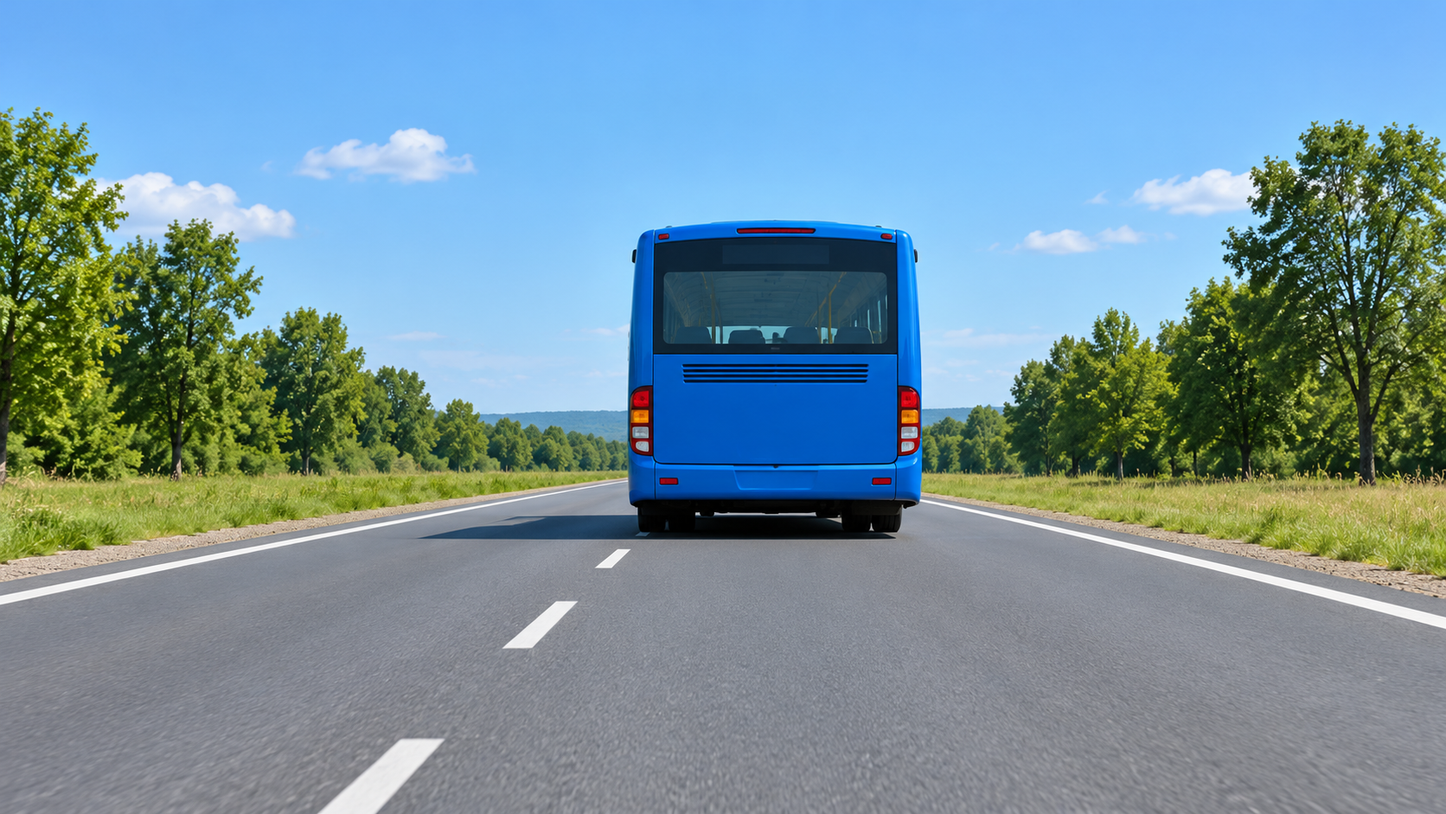bus: (630, 221, 920, 533)
